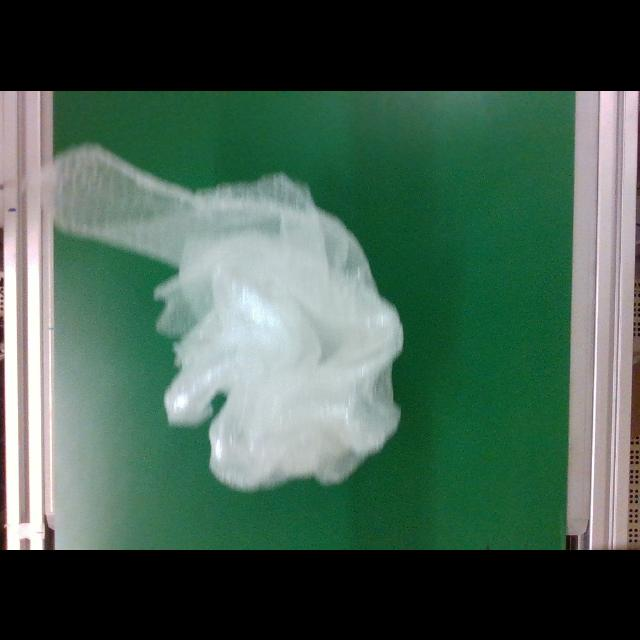scrap_plastic: (40, 138, 404, 494)
